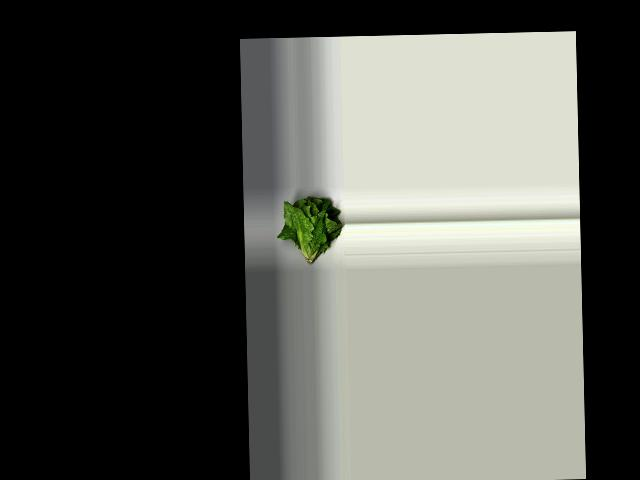lettuce: (278, 192, 347, 269)
